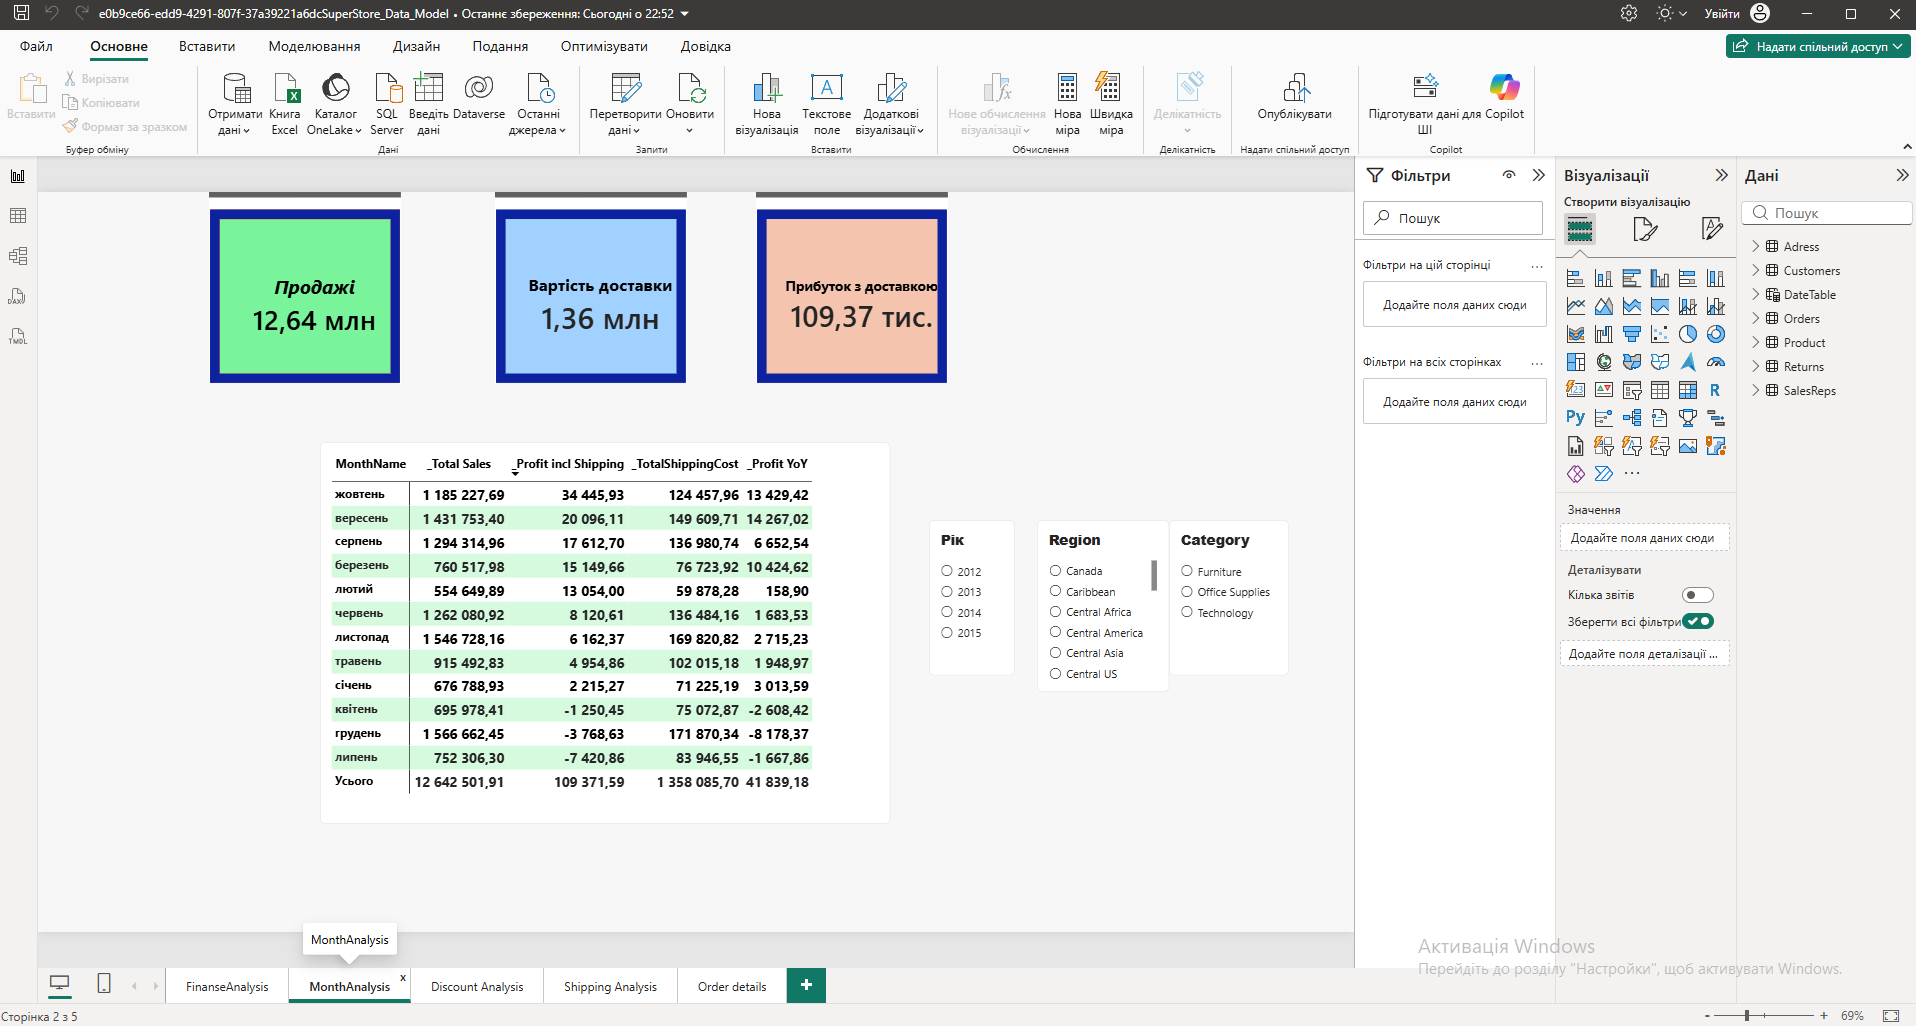

This screenshot's page, from the dashboard's own definition file:
{"tool":"powerbi","page":{"name":"MonthAnalysis","canvas":[1920,1080],"ordinal":1},"visuals":[{"type":"cardVisual","fields":{"Data":["Orders._Total Sales"]},"box":[249.5,0,280,280],"z":2},{"type":"cardVisual","fields":{"Data":["Orders._TotalShippingCost"]},"box":[666.3,0,280,280],"z":3},{"type":"cardVisual","fields":{"Data":["Orders._Profit incl Shipping"]},"box":[1046.8,0,280,280],"z":4},{"type":"pivotTable","fields":{"Rows":["DateTable.MonthName"],"Values":["Orders._Total Sales","Orders._Profit incl Shipping","Orders._TotalShippingCost","Orders._Profit YoY"]},"box":[412.1,364.7,832.1,557.4],"z":5},{"type":"listSlicer","fields":{"Values":["DateTable.Date.Варіація.Ієрархія дат.Рік"]},"box":[1299.5,478.4,124.7,227.4],"z":6},{"type":"listSlicer","fields":{"Values":["Adress.Region"]},"box":[1457.4,478.4,192.6,251.1],"z":7},{"type":"listSlicer","fields":{"Values":["Product.Category"]},"box":[1650,478.4,175.3,227.4],"z":8}]}

Visuals, with their boxes on the page's 1920x1080 design canvas (x1, y1, x2, y2). These are canvas units, not pixel positions in the 1916x1026 screenshot, which may show the page scaled, cropped or inside an application window:
cardVisual - Orders._Total Sales: crop(250, 0, 530, 280)
cardVisual - Orders._TotalShippingCost: crop(666, 0, 946, 280)
cardVisual - Orders._Profit incl Shipping: crop(1047, 0, 1327, 280)
pivotTable - DateTable.MonthName x Orders._Total Sales: crop(412, 365, 1244, 922)
listSlicer - DateTable.Date.Варіація.Ієрархія дат.Рік: crop(1300, 478, 1424, 706)
listSlicer - Adress.Region: crop(1457, 478, 1650, 730)
listSlicer - Product.Category: crop(1650, 478, 1825, 706)
